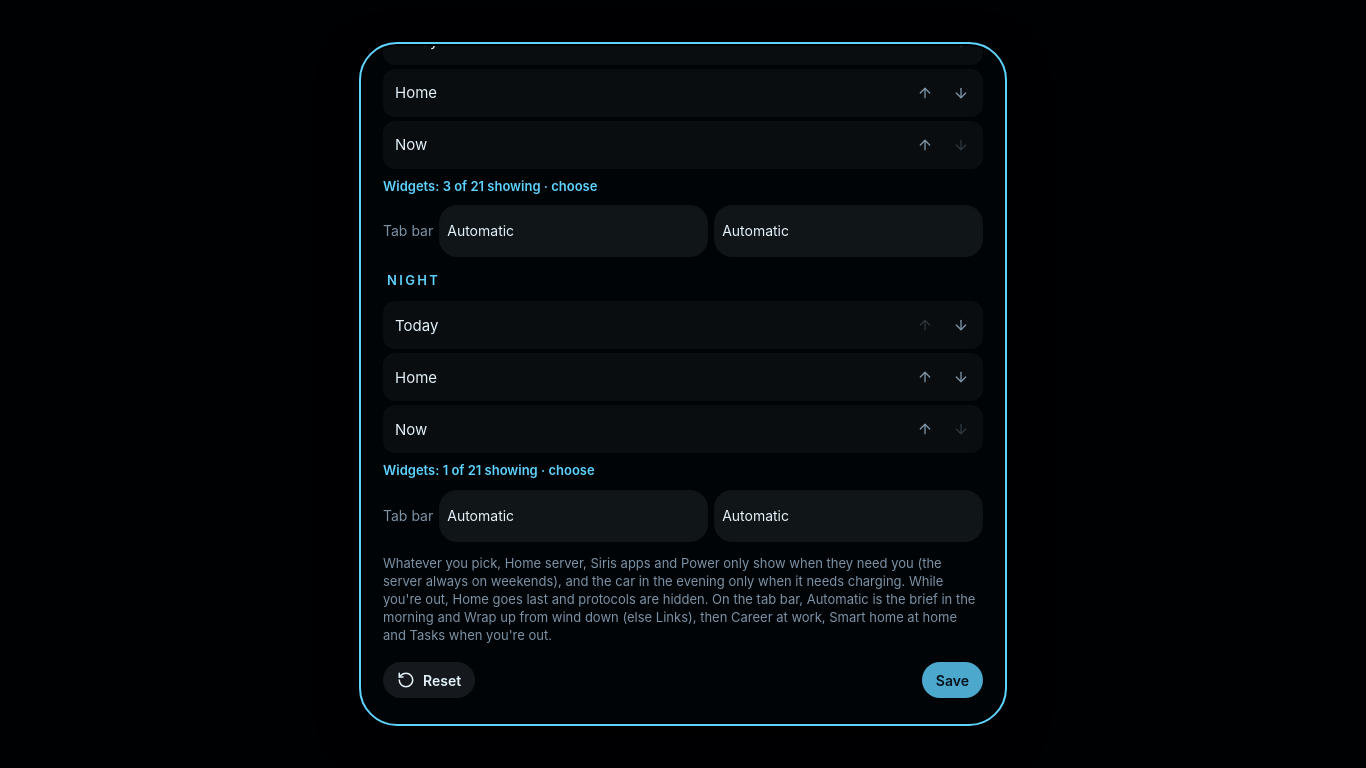
it: <HomeTimes /> › won't save a day that runs backwards
The image size is (1366, 768).
(page scrolled)
Click the button "Save": x=952, y=680 [922,662,983,698]
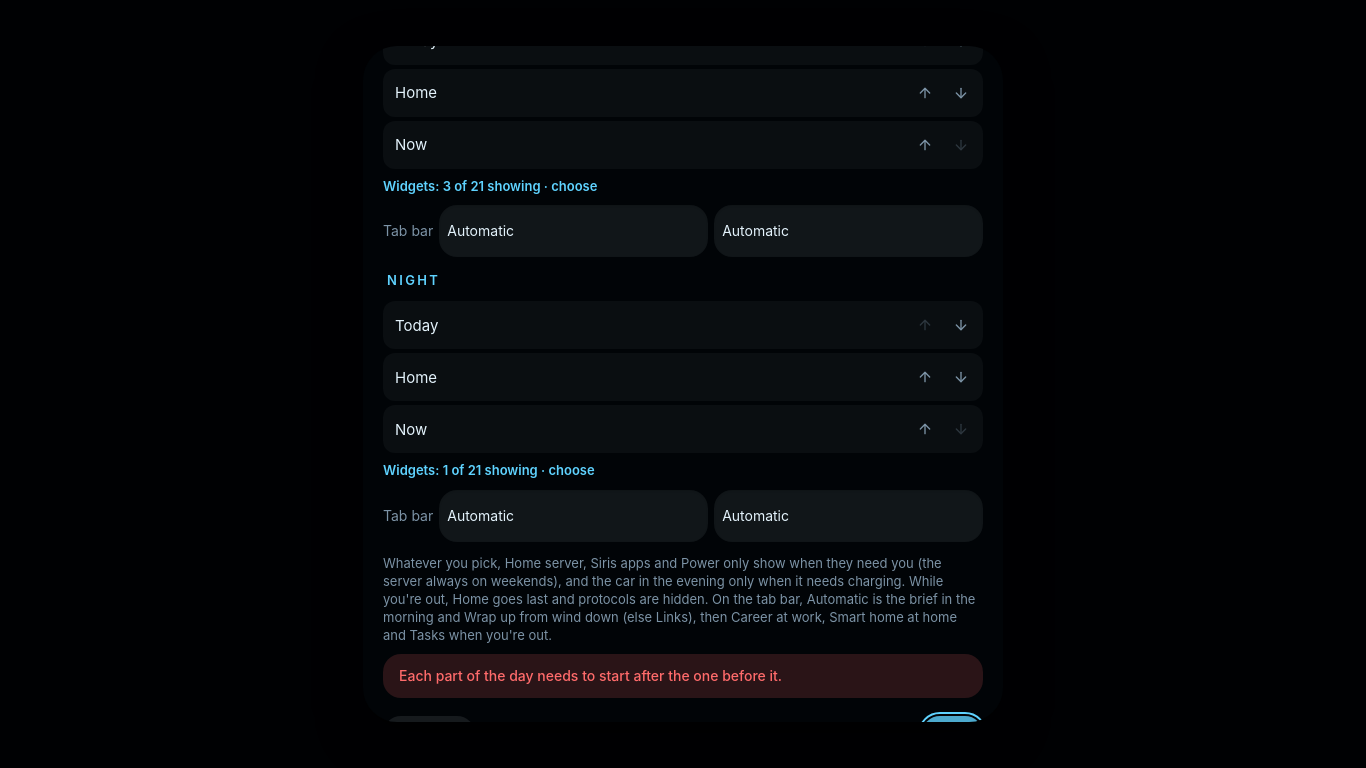
Check: the message shows "start after the one before it", box [399,668,782,684]
